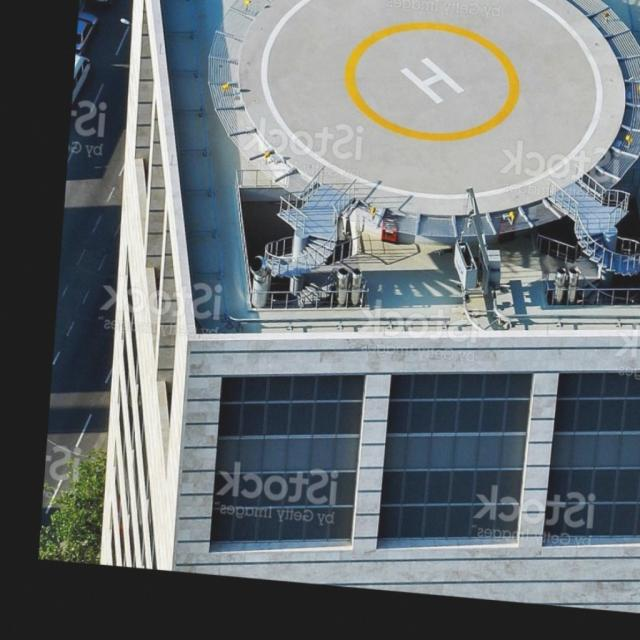helipad: (338, 19, 526, 148)
